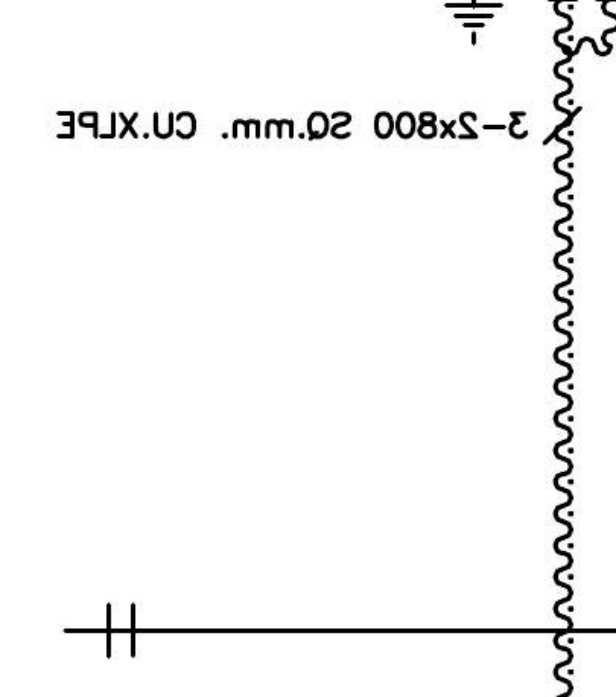115_buffer: (106, 602, 136, 659)
